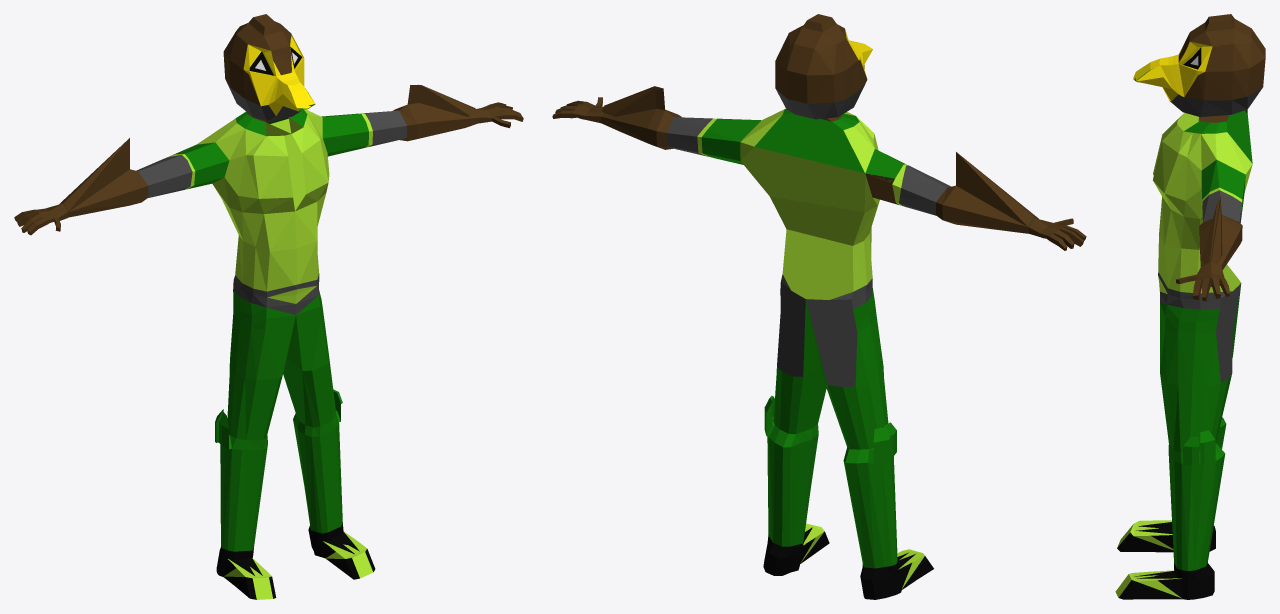
File: botarga.fbx
3 views of the same model, side by side, from view 1: azimuth 30°, elevation 25°; view 2: azimuth 150°, elevation 25°; view 3: azimuth 270°, elevation 25° (orthographic). The views are drawn at different scales.
Parts seen in each view (by area): view 1: BotargaUAL; view 2: BotargaUAL; view 3: BotargaUAL.
Boxes of the visible parts, <box> form: BotargaUAL: <box>14,14,523,599</box>; BotargaUAL: <box>552,14,1086,599</box>; BotargaUAL: <box>1115,14,1265,599</box>.
Bounding box in the file's own units: 780 × 809 × 199.
